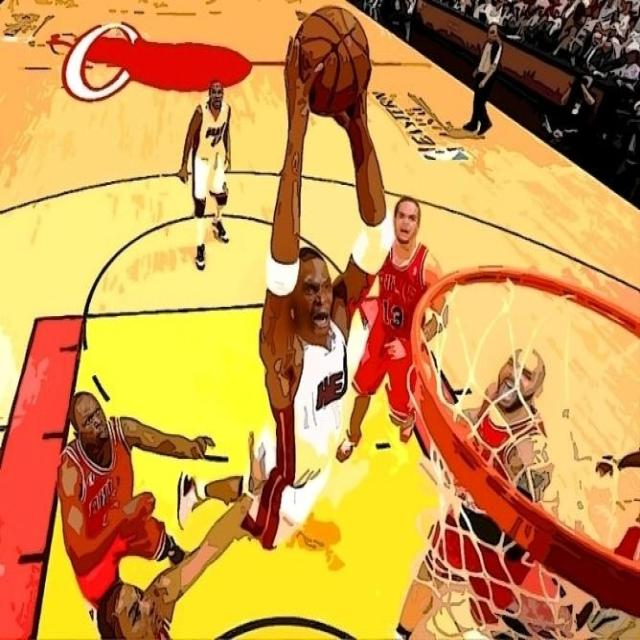basketball: (293, 5, 371, 116)
hoop: (404, 264, 639, 636)
